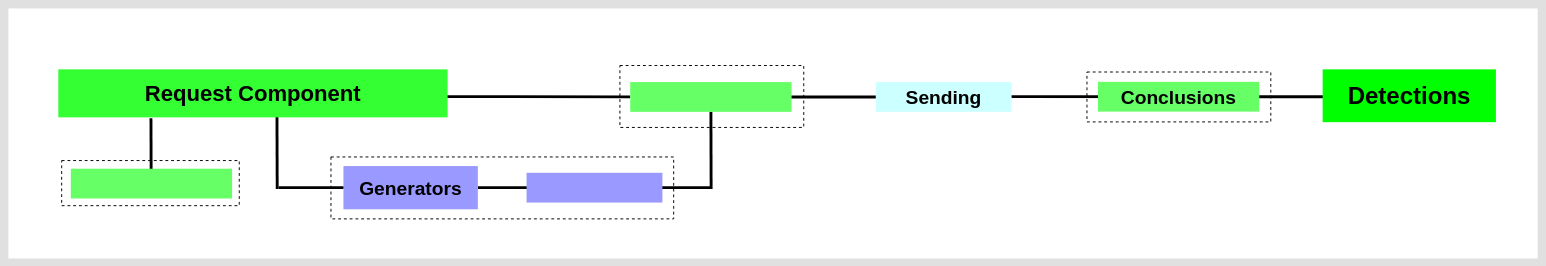
The diagram is 1546 pixels wide and 266 high, and some of its shapes have lost their labels. The shapes that lost their labels are listed below. From the top down, each one's box as (x1, y1, x2, y2) in pixels, then its label:
(630, 82, 791, 112): Middleware
(71, 168, 232, 198): Variables
(526, 173, 662, 202): Encoding
